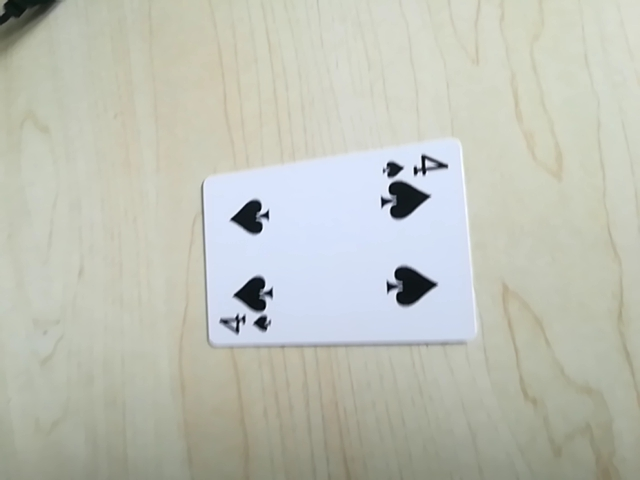ht 4: (383, 148, 449, 182), (211, 308, 275, 340)
